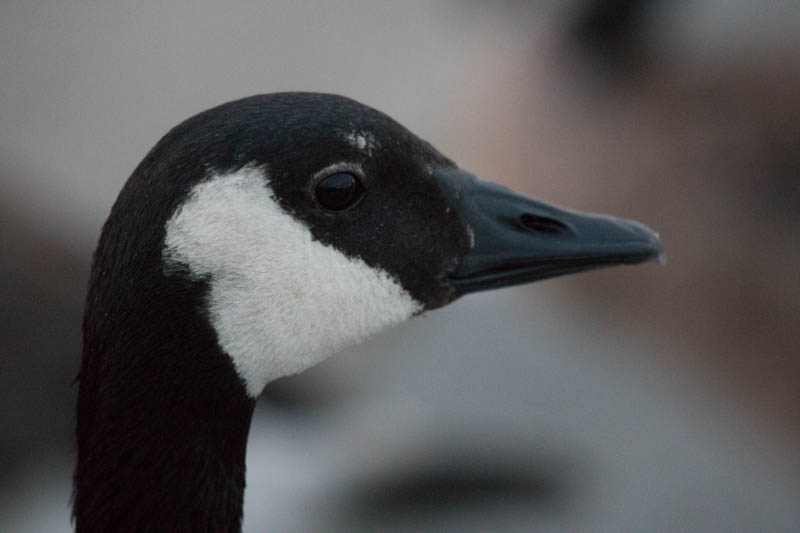goose-head: (82, 91, 664, 408)
